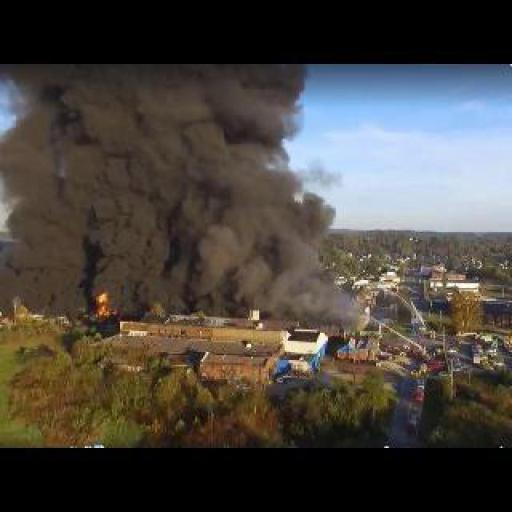smoke: (114, 66, 372, 322), (92, 288, 118, 318)
